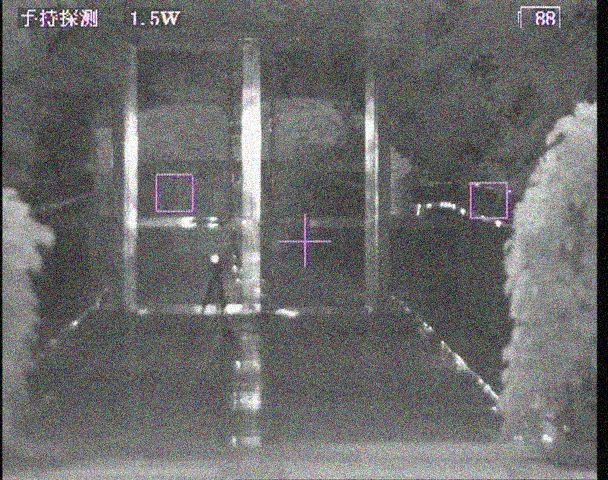my: (209, 253, 220, 264)
